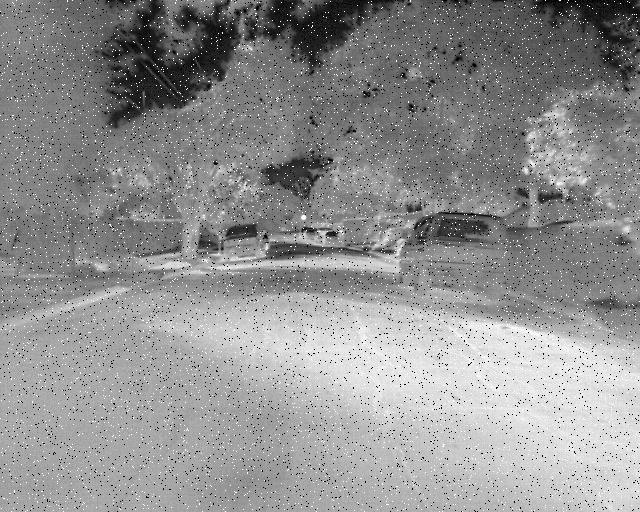car: (390, 200, 502, 298), (220, 212, 277, 272), (302, 216, 345, 253), (292, 220, 322, 245)
